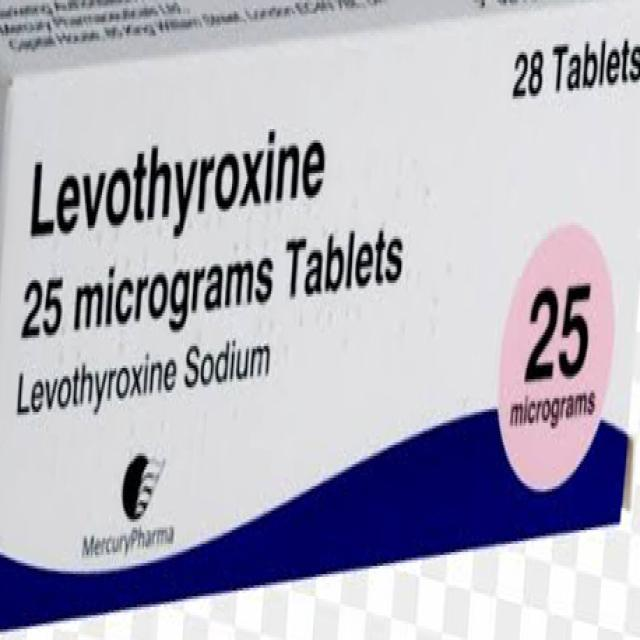drug-name: (25, 121, 327, 258)
